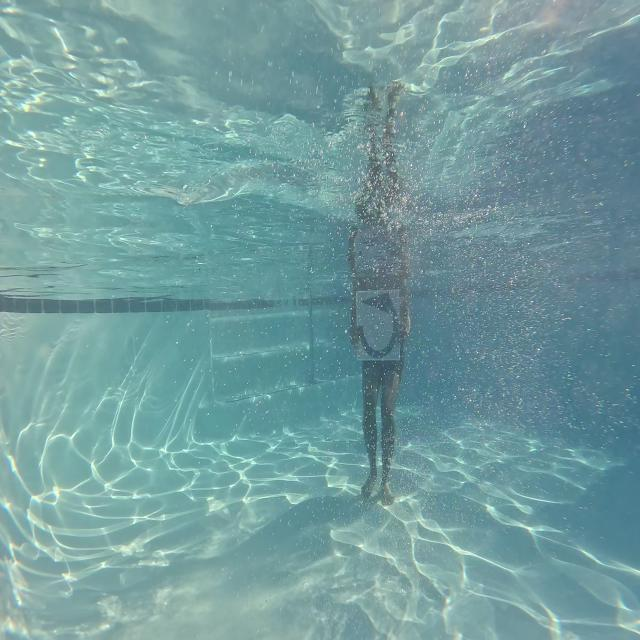blue_side: (347, 280, 406, 372)
